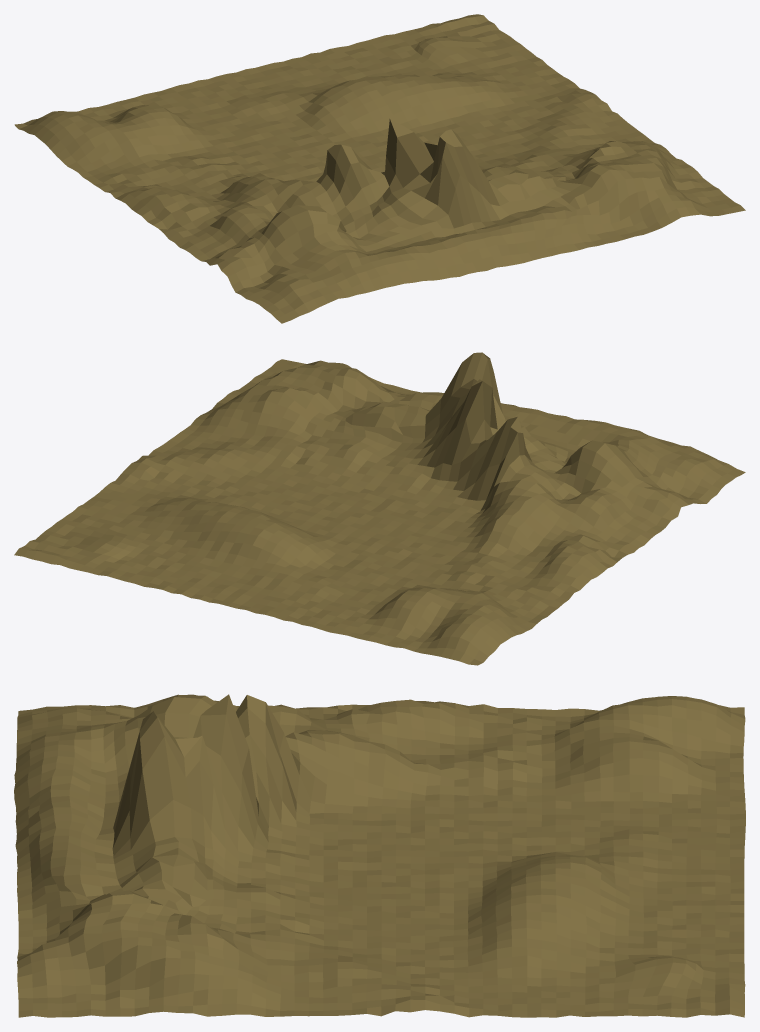
The model's file is Ground.fbx.
The picture shows the model from 3 angles, top to bottom: view 1: azimuth 30°, elevation 25°; view 2: azimuth 150°, elevation 25°; view 3: azimuth 270°, elevation 25°; orthographic projection. The views are drawn at different scales.
Visible parts, largest first — view 1: pPlane1; view 2: pPlane1; view 3: pPlane1.
Part boxes in pixels (x1=…): pPlane1: x1=14, y1=14, x2=745, y2=323; pPlane1: x1=14, y1=352, x2=745, y2=665; pPlane1: x1=14, y1=694, x2=745, y2=1017.
Size of the model in its own units: 303 by 64.4 by 303.
